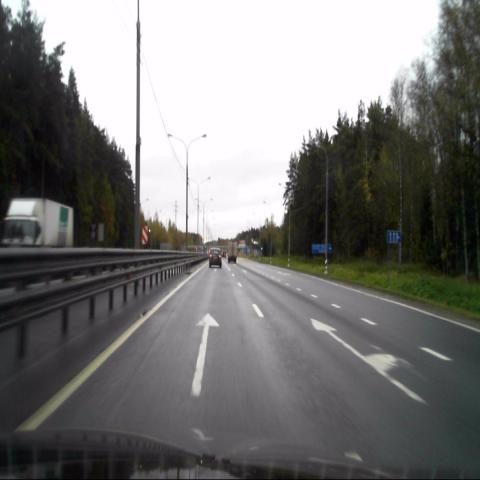5_15_1: (387, 231, 400, 242)
